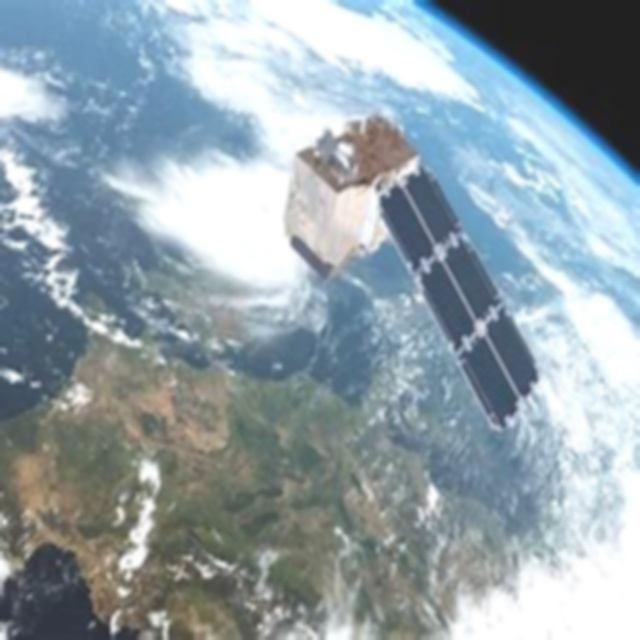satellite: (282, 101, 542, 435)
